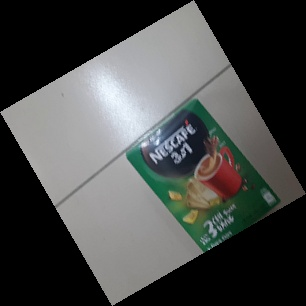Nes Rang: (124, 97, 282, 258)
